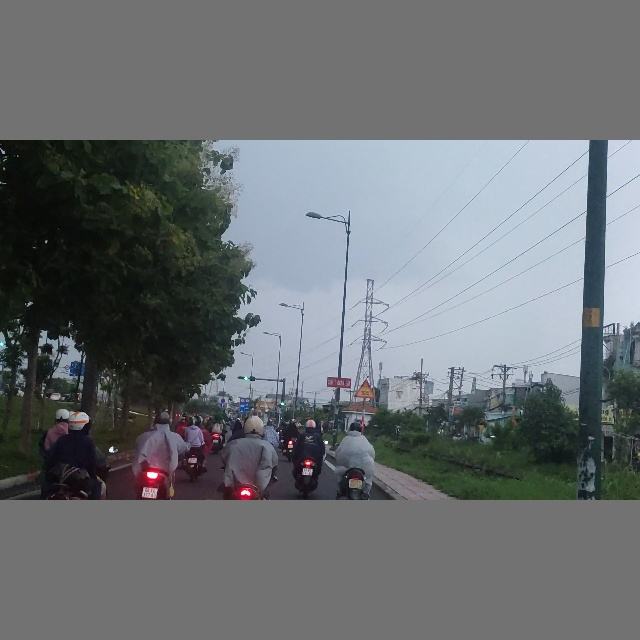W.210: (355, 380, 375, 398)
